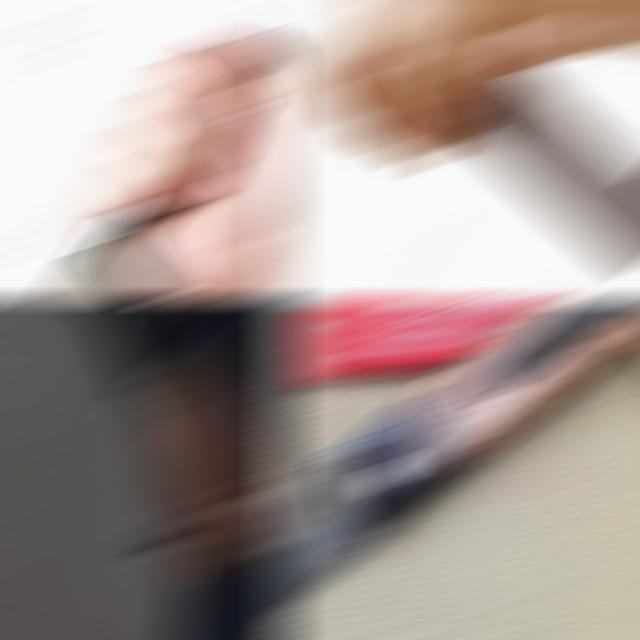Knife: (270, 304, 640, 602), (458, 71, 640, 260)
Knife_Handle: (0, 33, 292, 296), (134, 418, 292, 577)
